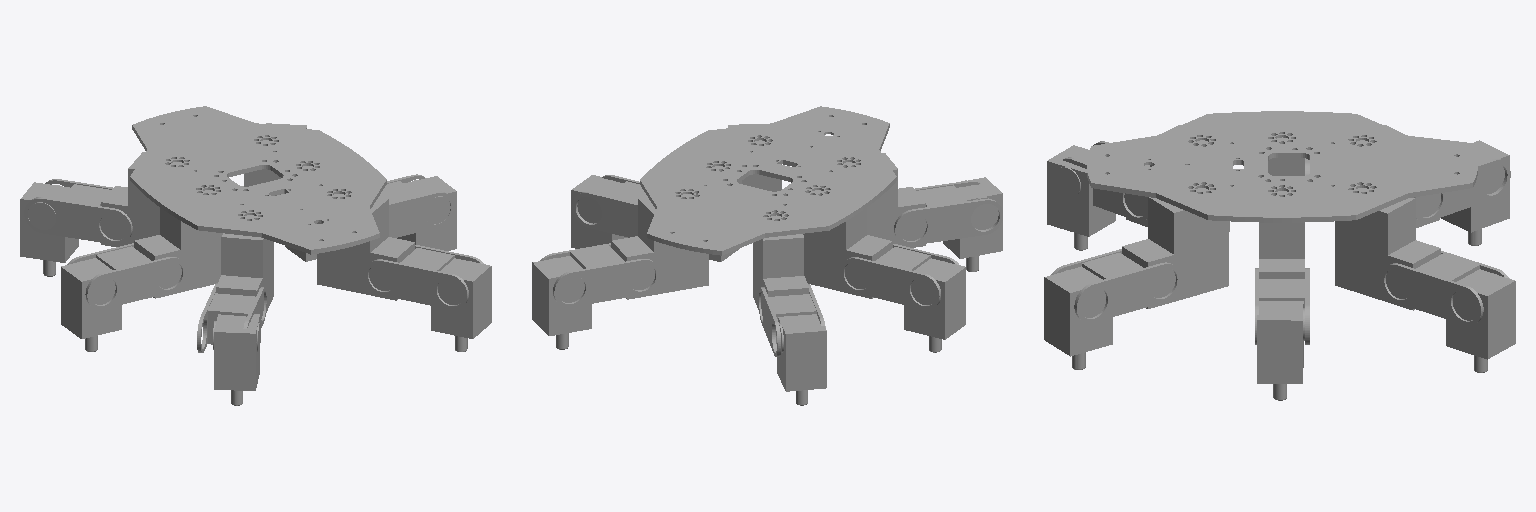
robot.urdf — (Unsaved):
<?xml version="1.0" ?>
<!-- =================================================================================== -->
<!-- |    This document was autogenerated by xacro from (Unsaved).xacro                | -->
<!-- |    EDITING THIS FILE BY HAND IS NOT RECOMMENDED                                 | -->
<!-- =================================================================================== -->
<robot name="(Unsaved)">
  <material name="silver">
    <color rgba="0.700 0.700 0.700 1.000"/>
  </material>
  <link name="base_link">
    <inertial>
      <origin rpy="0 0 0" xyz="-0.19747326793103112 0.0011545818939354344 0.001999156859975229"/>
      <mass value="1.0602977360982548"/>
      <inertia ixx="0.005088" ixy="1.5e-05" ixz="0.0" iyy="0.002124" iyz="1e-06" izz="0.007209"/>
    </inertial>
    <visual>
      <origin rpy="0 0 0" xyz="0 0 0"/>
      <geometry>
        <mesh filename="base_link.stl" scale="0.001 0.001 0.001"/>
      </geometry>
      <material name="silver"/>
    </visual>
    <collision>
      <origin rpy="0 0 0" xyz="0 0 0"/>
      <geometry>
        <mesh filename="base_link.stl" scale="0.001 0.001 0.001"/>
      </geometry>
    </collision>
  </link>
  <link name="teta1_1">
    <inertial>
      <origin rpy="0 0 0" xyz="0.030534126789324406 -0.015667414362937795 -0.00029693086440870514"/>
      <mass value="0.322485513471676"/>
      <inertia ixx="7.5e-05" ixy="2e-06" ixz="0.0" iyy="7.3e-05" iyz="-0.0" izz="9.9e-05"/>
    </inertial>
    <visual>
      <origin rpy="0 0 0" xyz="0.144694 0.105026 0.0515"/>
      <geometry>
        <mesh filename="teta1_1.stl" scale="0.001 0.001 0.001"/>
      </geometry>
      <material name="silver"/>
    </visual>
    <collision>
      <origin rpy="0 0 0" xyz="0.144694 0.105026 0.0515"/>
      <geometry>
        <mesh filename="teta1_1.stl" scale="0.001 0.001 0.001"/>
      </geometry>
    </collision>
  </link>
  <link name="tibia1_1">
    <inertial>
      <origin rpy="0 0 0" xyz="0.013631914546237855 0.009229301543740576 -0.01387288396315086"/>
      <mass value="0.5005531081408956"/>
      <inertia ixx="0.000169" ixy="4e-06" ixz="0.0" iyy="0.000166" iyz="0.0" izz="0.000101"/>
    </inertial>
    <visual>
      <origin rpy="0 0 0" xyz="0.111055 0.154709 0.0515"/>
      <geometry>
        <mesh filename="tibia1_1.stl" scale="0.001 0.001 0.001"/>
      </geometry>
      <material name="silver"/>
    </visual>
    <collision>
      <origin rpy="0 0 0" xyz="0.111055 0.154709 0.0515"/>
      <geometry>
        <mesh filename="tibia1_1.stl" scale="0.001 0.001 0.001"/>
      </geometry>
    </collision>
  </link>
  <link name="teta2_1">
    <inertial>
      <origin rpy="0 0 0" xyz="0.030092369962315096 0.016499999999999838 -0.00029693086440886474"/>
      <mass value="0.322485513471676"/>
      <inertia ixx="7.1e-05" ixy="-0.0" ixz="0.0" iyy="7.6e-05" iyz="-0.0" izz="9.9e-05"/>
    </inertial>
    <visual>
      <origin rpy="0 0 0" xyz="0.105851 0.0165 0.0515"/>
      <geometry>
        <mesh filename="teta2_1.stl" scale="0.001 0.001 0.001"/>
      </geometry>
      <material name="silver"/>
    </visual>
    <collision>
      <origin rpy="0 0 0" xyz="0.105851 0.0165 0.0515"/>
      <geometry>
        <mesh filename="teta2_1.stl" scale="0.001 0.001 0.001"/>
      </geometry>
    </collision>
  </link>
  <link name="tibia2_1">
    <inertial>
      <origin rpy="0 0 0" xyz="2.0452293353345752e-07 0.01646291267745646 -0.013872883963150555"/>
      <mass value="0.5005531081408956"/>
      <inertia ixx="0.000163" ixy="0.0" ixz="-0.0" iyy="0.000172" iyz="0.0" izz="0.000101"/>
    </inertial>
    <visual>
      <origin rpy="0 0 0" xyz="0.045851 0.0165 0.0515"/>
      <geometry>
        <mesh filename="tibia2_1.stl" scale="0.001 0.001 0.001"/>
      </geometry>
      <material name="silver"/>
    </visual>
    <collision>
      <origin rpy="0 0 0" xyz="0.045851 0.0165 0.0515"/>
      <geometry>
        <mesh filename="tibia2_1.stl" scale="0.001 0.001 0.001"/>
      </geometry>
    </collision>
  </link>
  <link name="teta3_1">
    <inertial>
      <origin rpy="0 0 0" xyz="0.0049988335991379 0.03378988634228103 0.0002969308644092117"/>
      <mass value="0.322485513471676"/>
      <inertia ixx="7.4e-05" ixy="-2e-06" ixz="0.0" iyy="7.3e-05" iyz="0.0" izz="9.9e-05"/>
    </inertial>
    <visual>
      <origin rpy="0 0 0" xyz="0.115797 -0.084261 0.0515"/>
      <geometry>
        <mesh filename="teta3_1.stl" scale="0.001 0.001 0.001"/>
      </geometry>
      <material name="silver"/>
    </visual>
    <collision>
      <origin rpy="0 0 0" xyz="0.115797 -0.084261 0.0515"/>
      <geometry>
        <mesh filename="teta3_1.stl" scale="0.001 0.001 0.001"/>
      </geometry>
    </collision>
  </link>
  <link name="tibia3_1">
    <inertial>
      <origin rpy="0 0 0" xyz="-0.01309616122417527 0.009975931443530317 -0.013872883963150652"/>
      <mass value="0.5005531081408956"/>
      <inertia ixx="0.000169" ixy="-4e-06" ixz="-0.0" iyy="0.000166" iyz="0.0" izz="0.000101"/>
    </inertial>
    <visual>
      <origin rpy="0 0 0" xyz="0.079437 -0.13199 0.0515"/>
      <geometry>
        <mesh filename="tibia3_1.stl" scale="0.001 0.001 0.001"/>
      </geometry>
      <material name="silver"/>
    </visual>
    <collision>
      <origin rpy="0 0 0" xyz="0.079437 -0.13199 0.0515"/>
      <geometry>
        <mesh filename="tibia3_1.stl" scale="0.001 0.001 0.001"/>
      </geometry>
    </collision>
  </link>
  <link name="teta4_1">
    <inertial>
      <origin rpy="0 0 0" xyz="-0.031894846797939025 0.012668757983660323 -0.00029693086440856636"/>
      <mass value="0.322485513471676"/>
      <inertia ixx="7.4e-05" ixy="3e-06" ixz="-0.0" iyy="7.3e-05" iyz="0.0" izz="9.9e-05"/>
    </inertial>
    <visual>
      <origin rpy="0 0 0" xyz="0.254528 -0.103617 0.0515"/>
      <geometry>
        <mesh filename="teta4_1.stl" scale="0.001 0.001 0.001"/>
      </geometry>
      <material name="silver"/>
    </visual>
    <collision>
      <origin rpy="0 0 0" xyz="0.254528 -0.103617 0.0515"/>
      <geometry>
        <mesh filename="teta4_1.stl" scale="0.001 0.001 0.001"/>
      </geometry>
    </collision>
  </link>
  <link name="tibia4_1">
    <inertial>
      <origin rpy="0 0 0" xyz="-0.01268524175515362 -0.010494219075531164 -0.013872883963149903"/>
      <mass value="0.5005531081408956"/>
      <inertia ixx="0.000168" ixy="4e-06" ixz="-0.0" iyy="0.000167" iyz="-0.0" izz="0.000101"/>
    </inertial>
    <visual>
      <origin rpy="0 0 0" xyz="0.292773 -0.149848 0.0515"/>
      <geometry>
        <mesh filename="tibia4_1.stl" scale="0.001 0.001 0.001"/>
      </geometry>
      <material name="silver"/>
    </visual>
    <collision>
      <origin rpy="0 0 0" xyz="0.292773 -0.149848 0.0515"/>
      <geometry>
        <mesh filename="tibia4_1.stl" scale="0.001 0.001 0.001"/>
      </geometry>
    </collision>
  </link>
  <link name="teta5_1">
    <inertial>
      <origin rpy="0 0 0" xyz="-0.03009196091642463 -0.016500000000000042 -0.00029693086440888555"/>
      <mass value="0.322485513471676"/>
      <inertia ixx="7.1e-05" ixy="-0.0" ixz="-0.0" iyy="7.6e-05" iyz="-0.0" izz="9.9e-05"/>
    </inertial>
    <visual>
      <origin rpy="0 0 0" xyz="0.288851 -0.0165 0.0515"/>
      <geometry>
        <mesh filename="teta5_1.stl" scale="0.001 0.001 0.001"/>
      </geometry>
      <material name="silver"/>
    </visual>
    <collision>
      <origin rpy="0 0 0" xyz="0.288851 -0.0165 0.0515"/>
      <geometry>
        <mesh filename="teta5_1.stl" scale="0.001 0.001 0.001"/>
      </geometry>
    </collision>
  </link>
  <link name="tibia5_1">
    <inertial>
      <origin rpy="0 0 0" xyz="2.0452295651507413e-07 -0.01646291267745669 -0.013872883963150527"/>
      <mass value="0.5005531081408956"/>
      <inertia ixx="0.000163" ixy="0.0" ixz="0.0" iyy="0.000172" iyz="-0.0" izz="0.000101"/>
    </inertial>
    <visual>
      <origin rpy="0 0 0" xyz="0.348851 -0.0165 0.0515"/>
      <geometry>
        <mesh filename="tibia5_1.stl" scale="0.001 0.001 0.001"/>
      </geometry>
      <material name="silver"/>
    </visual>
    <collision>
      <origin rpy="0 0 0" xyz="0.348851 -0.0165 0.0515"/>
      <geometry>
        <mesh filename="tibia5_1.stl" scale="0.001 0.001 0.001"/>
      </geometry>
    </collision>
  </link>
  <link name="teta6_1">
    <inertial>
      <origin rpy="0 0 0" xyz="-0.004160848120962735 -0.034065716062035664 -0.00029693086440885086"/>
      <mass value="0.322485513471676"/>
      <inertia ixx="7.5e-05" ixy="-2e-06" ixz="-0.0" iyy="7.3e-05" iyz="-0.0" izz="9.9e-05"/>
    </inertial>
    <visual>
      <origin rpy="0 0 0" xyz="0.278135 0.085404 0.0515"/>
      <geometry>
        <mesh filename="teta6_1.stl" scale="0.001 0.001 0.001"/>
      </geometry>
      <material name="silver"/>
    </visual>
    <collision>
      <origin rpy="0 0 0" xyz="0.278135 0.085404 0.0515"/>
      <geometry>
        <mesh filename="teta6_1.stl" scale="0.001 0.001 0.001"/>
      </geometry>
    </collision>
  </link>
  <link name="tibia6_1">
    <inertial>
      <origin rpy="0 0 0" xyz="0.013369579866801706 -0.009606733852596305 -0.013872883963150888"/>
      <mass value="0.5005531081408956"/>
      <inertia ixx="0.000169" ixy="-4e-06" ixz="0.0" iyy="0.000166" iyz="-0.0" izz="0.000101"/>
    </inertial>
    <visual>
      <origin rpy="0 0 0" xyz="0.313148 0.134129 0.0515"/>
      <geometry>
        <mesh filename="tibia6_1.stl" scale="0.001 0.001 0.001"/>
      </geometry>
      <material name="silver"/>
    </visual>
    <collision>
      <origin rpy="0 0 0" xyz="0.313148 0.134129 0.0515"/>
      <geometry>
        <mesh filename="tibia6_1.stl" scale="0.001 0.001 0.001"/>
      </geometry>
    </collision>
  </link>
  <link name="coxa1_1">
    <inertial>
      <origin rpy="0 0 0" xyz="0.010721348766451672 -0.015867054756867255 -0.03845464138452091"/>
      <mass value="1.0829342534788744"/>
      <inertia ixx="0.000723" ixy="0.000134" ixz="5.9e-05" iyy="0.000615" iyz="-8.7e-05" izz="0.000489"/>
    </inertial>
    <visual>
      <origin rpy="0 0 0" xyz="0.1571 0.05727 -0.0"/>
      <geometry>
        <mesh filename="coxa1_1.stl" scale="0.001 0.001 0.001"/>
      </geometry>
      <material name="silver"/>
    </visual>
    <collision>
      <origin rpy="0 0 0" xyz="0.1571 0.05727 -0.0"/>
      <geometry>
        <mesh filename="coxa1_1.stl" scale="0.001 0.001 0.001"/>
      </geometry>
    </collision>
  </link>
  <link name="coxa2_1">
    <inertial>
      <origin rpy="0 0 0" xyz="0.019149731596684927 -1.7142476112559367e-05 -0.03845464138452086"/>
      <mass value="1.0829342534788744"/>
      <inertia ixx="0.000525" ixy="1e-06" ixz="0.000105" iyy="0.000813" iyz="-0.0" izz="0.000489"/>
    </inertial>
    <visual>
      <origin rpy="0 0 0" xyz="0.152351 -0.0 -0.0"/>
      <geometry>
        <mesh filename="coxa2_1.stl" scale="0.001 0.001 0.001"/>
      </geometry>
      <material name="silver"/>
    </visual>
    <collision>
      <origin rpy="0 0 0" xyz="0.152351 -0.0 -0.0"/>
      <geometry>
        <mesh filename="coxa2_1.stl" scale="0.001 0.001 0.001"/>
      </geometry>
    </collision>
  </link>
  <link name="coxa3_1">
    <inertial>
      <origin rpy="0 0 0" xyz="0.0116175998283789 0.01522303303614854 -0.03845464138452081"/>
      <mass value="1.0829342534788744"/>
      <inertia ixx="0.000707" ixy="-0.000139" ixz="6.4e-05" iyy="0.000631" iyz="8.4e-05" izz="0.000489"/>
    </inertial>
    <visual>
      <origin rpy="0 0 0" xyz="0.1571 -0.05727 -0.0"/>
      <geometry>
        <mesh filename="coxa3_1.stl" scale="0.001 0.001 0.001"/>
      </geometry>
      <material name="silver"/>
    </visual>
    <collision>
      <origin rpy="0 0 0" xyz="0.1571 -0.05727 -0.0"/>
      <geometry>
        <mesh filename="coxa3_1.stl" scale="0.001 0.001 0.001"/>
      </geometry>
    </collision>
  </link>
  <link name="coxa4_1">
    <inertial>
      <origin rpy="0 0 0" xyz="-0.012193322564369419 0.014766371448479601 -0.038454641384520705"/>
      <mass value="1.0829342534788744"/>
      <inertia ixx="0.000697" ixy="0.000142" ixz="-6.7e-05" iyy="0.000641" iyz="8.1e-05" izz="0.000489"/>
    </inertial>
    <visual>
      <origin rpy="0 0 0" xyz="0.237601 -0.05727 -0.0"/>
      <geometry>
        <mesh filename="coxa4_1.stl" scale="0.001 0.001 0.001"/>
      </geometry>
      <material name="silver"/>
    </visual>
    <collision>
      <origin rpy="0 0 0" xyz="0.237601 -0.05727 -0.0"/>
      <geometry>
        <mesh filename="coxa4_1.stl" scale="0.001 0.001 0.001"/>
      </geometry>
    </collision>
  </link>
  <link name="coxa5_1">
    <inertial>
      <origin rpy="0 0 0" xyz="-0.019149322550794573 1.7142476112579354e-05 -0.03845464138452092"/>
      <mass value="1.0829342534788744"/>
      <inertia ixx="0.000525" ixy="1e-06" ixz="-0.000105" iyy="0.000813" iyz="0.0" izz="0.000489"/>
    </inertial>
    <visual>
      <origin rpy="0 0 0" xyz="0.242351 -0.0 -0.0"/>
      <geometry>
        <mesh filename="coxa5_1.stl" scale="0.001 0.001 0.001"/>
      </geometry>
      <material name="silver"/>
    </visual>
    <collision>
      <origin rpy="0 0 0" xyz="0.242351 -0.0 -0.0"/>
      <geometry>
        <mesh filename="coxa5_1.stl" scale="0.001 0.001 0.001"/>
      </geometry>
    </collision>
  </link>
  <link name="coxa6_1">
    <inertial>
      <origin rpy="0 0 0" xyz="-0.011188622468052495 -0.015541492362827966 -0.038454641384520864"/>
      <mass value="1.0829342534788744"/>
      <inertia ixx="0.000715" ixy="-0.000137" ixz="-6.2e-05" iyy="0.000623" iyz="-8.5e-05" izz="0.000489"/>
    </inertial>
    <visual>
      <origin rpy="0 0 0" xyz="0.237601 0.05727 -0.0"/>
      <geometry>
        <mesh filename="coxa6_1.stl" scale="0.001 0.001 0.001"/>
      </geometry>
      <material name="silver"/>
    </visual>
    <collision>
      <origin rpy="0 0 0" xyz="0.237601 0.05727 -0.0"/>
      <geometry>
        <mesh filename="coxa6_1.stl" scale="0.001 0.001 0.001"/>
      </geometry>
    </collision>
  </link>
  <joint name="Revolute 1" type="revolute">
    <origin rpy="0 0 0" xyz="0.012406 -0.047756 -0.0515"/>
    <parent link="coxa1_1"/>
    <child link="teta1_1"/>
    <axis xyz="0.82806 0.560639 0.0"/>
    <limit effort="100" lower="0.0" upper="6.283185" velocity="100"/>
  </joint>
  <joint name="Revolute 2" type="revolute">
    <origin rpy="0 0 0" xyz="0.033639 -0.049683 0.0"/>
    <parent link="teta1_1"/>
    <child link="tibia1_1"/>
    <axis xyz="0.82806 0.560639 -0.0"/>
    <limit effort="100" lower="0.0" upper="6.283185" velocity="100"/>
  </joint>
  <joint name="Revolute 5" type="revolute">
    <origin rpy="0 0 0" xyz="0.0465 -0.0165 -0.0515"/>
    <parent link="coxa2_1"/>
    <child link="teta2_1"/>
    <axis xyz="0.0 -1.0 0.0"/>
    <limit effort="100" lower="0.0" upper="6.283185" velocity="100"/>
  </joint>
  <joint name="Revolute 6" type="revolute">
    <origin rpy="0 0 0" xyz="0.06 0.0 0.0"/>
    <parent link="teta2_1"/>
    <child link="tibia2_1"/>
    <axis xyz="-0.0 1.0 -0.0"/>
    <limit effort="100" lower="0.0" upper="6.283185" velocity="100"/>
  </joint>
  <joint name="Revolute 7" type="revolute">
    <origin rpy="0 0 0" xyz="0.041303 0.026991 -0.0515"/>
    <parent link="coxa3_1"/>
    <child link="teta3_1"/>
    <axis xyz="0.795473 -0.605988 0.0"/>
    <limit effort="100" lower="0.0" upper="6.283185" velocity="100"/>
  </joint>
  <joint name="Revolute 8" type="revolute">
    <origin rpy="0 0 0" xyz="0.03636 0.047729 0.0"/>
    <parent link="teta3_1"/>
    <child link="tibia3_1"/>
    <axis xyz="-0.795473 0.605988 0.0"/>
    <limit effort="100" lower="0.0" upper="6.283185" velocity="100"/>
  </joint>
  <joint name="Revolute 9" type="revolute">
    <origin rpy="0 0 0" xyz="-0.016927 0.046347 -0.0515"/>
    <parent link="coxa4_1"/>
    <child link="teta4_1"/>
    <axis xyz="0.770513 0.637424 0.0"/>
    <limit effort="100" lower="0.0" upper="6.283185" velocity="100"/>
  </joint>
  <joint name="Revolute 10" type="revolute">
    <origin rpy="0 0 0" xyz="-0.038245 0.046231 0.0"/>
    <parent link="teta4_1"/>
    <child link="tibia4_1"/>
    <axis xyz="-0.770513 -0.637424 -0.0"/>
    <limit effort="100" lower="0.0" upper="6.283185" velocity="100"/>
  </joint>
  <joint name="Revolute 11" type="revolute">
    <origin rpy="0 0 0" xyz="-0.0465 0.0165 -0.0515"/>
    <parent link="coxa5_1"/>
    <child link="teta5_1"/>
    <axis xyz="-0.0 1.0 -0.0"/>
    <limit effort="100" lower="0.0" upper="6.283185" velocity="100"/>
  </joint>
  <joint name="Revolute 12" type="revolute">
    <origin rpy="0 0 0" xyz="-0.06 0.0 0.0"/>
    <parent link="teta5_1"/>
    <child link="tibia5_1"/>
    <axis xyz="0.0 -1.0 0.0"/>
    <limit effort="100" lower="0.0" upper="6.283185" velocity="100"/>
  </joint>
  <joint name="Revolute 13" type="revolute">
    <origin rpy="0 0 0" xyz="-0.040534 -0.028134 -0.0515"/>
    <parent link="coxa6_1"/>
    <child link="teta6_1"/>
    <axis xyz="-0.812084 0.583541 0.0"/>
    <limit effort="100" lower="0.0" upper="6.283185" velocity="100"/>
  </joint>
  <joint name="Revolute 14" type="revolute">
    <origin rpy="0 0 0" xyz="-0.035013 -0.048725 0.0"/>
    <parent link="teta6_1"/>
    <child link="tibia6_1"/>
    <axis xyz="0.812084 -0.583541 -0.0"/>
    <limit effort="100" lower="0.0" upper="6.283185" velocity="100"/>
  </joint>
  <joint name="Revolute 15" type="revolute">
    <origin rpy="0 0 0" xyz="-0.1571 -0.05727 0.0"/>
    <parent link="base_link"/>
    <child link="coxa1_1"/>
    <axis xyz="0.0 0.0 1.0"/>
    <limit effort="100" lower="0.0" upper="6.283185" velocity="100"/>
  </joint>
  <joint name="Revolute 16" type="revolute">
    <origin rpy="0 0 0" xyz="-0.152351 0.0 0.0"/>
    <parent link="base_link"/>
    <child link="coxa2_1"/>
    <axis xyz="0.0 0.0 -1.0"/>
    <limit effort="100" lower="0.0" upper="6.283185" velocity="100"/>
  </joint>
  <joint name="Revolute 17" type="revolute">
    <origin rpy="0 0 0" xyz="-0.1571 0.05727 0.0"/>
    <parent link="base_link"/>
    <child link="coxa3_1"/>
    <axis xyz="0.0 0.0 -1.0"/>
    <limit effort="100" lower="0.0" upper="6.283185" velocity="100"/>
  </joint>
  <joint name="Revolute 18" type="revolute">
    <origin rpy="0 0 0" xyz="-0.237601 0.05727 0.0"/>
    <parent link="base_link"/>
    <child link="coxa4_1"/>
    <axis xyz="0.0 0.0 -1.0"/>
    <limit effort="100" lower="0.0" upper="6.283185" velocity="100"/>
  </joint>
  <joint name="Revolute 19" type="revolute">
    <origin rpy="0 0 0" xyz="-0.242351 0.0 0.0"/>
    <parent link="base_link"/>
    <child link="coxa5_1"/>
    <axis xyz="0.0 0.0 -1.0"/>
    <limit effort="100" lower="0.0" upper="6.283185" velocity="100"/>
  </joint>
  <joint name="Revolute 20" type="continuous">
    <origin rpy="0 0 0" xyz="-0.237601 -0.05727 0.0"/>
    <parent link="base_link"/>
    <child link="coxa6_1"/>
    <axis xyz="0.0 0.0 -1.0"/>
  </joint>
</robot>

--- Render facts (derived) ---
3 views of the same robot in one strip: view 1: azimuth 30°, elevation 25°; view 2: azimuth 150°, elevation 25°; view 3: azimuth 270°, elevation 25° (orthographic).
Model (Unsaved) with 19 links and 18 joints (17 revolute, 1 continuous), rooted at base_link, posed all joints at 0.
Links seen in each view (by area): view 1: base_link, coxa5_1, coxa1_1, tibia5_1, tibia1_1, tibia6_1, teta1_1, teta4_1, teta5_1, coxa6_1, tibia4_1, coxa4_1 (+3 smaller); view 2: base_link, coxa5_1, coxa3_1, tibia5_1, tibia3_1, tibia4_1, teta3_1, teta6_1, teta5_1, coxa4_1, coxa6_1, tibia6_1 (+3 smaller); view 3: base_link, coxa1_1, coxa3_1, tibia3_1, tibia1_1, tibia2_1, tibia6_1, teta1_1, teta3_1, tibia4_1, coxa2_1, teta2_1 (+5 smaller).
Boxes of the visible links, left/top/right/bottom form: base_link: left=130, top=106, right=386, bottom=254; coxa5_1: left=134, top=190, right=222, bottom=298; coxa1_1: left=317, top=194, right=414, bottom=300; tibia5_1: left=61, top=258, right=121, bottom=351; tibia1_1: left=431, top=258, right=491, bottom=351; tibia6_1: left=213, top=314, right=260, bottom=405; teta1_1: left=364, top=245, right=483, bottom=309; teta4_1: left=24, top=179, right=132, bottom=244; teta5_1: left=67, top=243, right=186, bottom=309; coxa6_1: left=216, top=215, right=273, bottom=318; tibia4_1: left=20, top=182, right=78, bottom=276; coxa4_1: left=100, top=152, right=182, bottom=246; base_link: left=640, top=106, right=896, bottom=255; coxa5_1: left=803, top=190, right=892, bottom=298; coxa3_1: left=611, top=194, right=708, bottom=299; tibia5_1: left=904, top=258, right=965, bottom=352; tibia3_1: left=532, top=256, right=591, bottom=349; tibia4_1: left=777, top=314, right=826, bottom=405; teta3_1: left=540, top=243, right=659, bottom=307; teta6_1: left=894, top=180, right=1002, bottom=245; teta5_1: left=840, top=244, right=958, bottom=309; coxa4_1: left=753, top=215, right=808, bottom=319; coxa6_1: left=844, top=153, right=926, bottom=247; tibia6_1: left=943, top=177, right=1002, bottom=271; base_link: left=1087, top=111, right=1477, bottom=222; coxa1_1: left=1122, top=188, right=1228, bottom=308; coxa3_1: left=1335, top=188, right=1440, bottom=310; tibia3_1: left=1446, top=269, right=1515, bottom=372; tibia1_1: left=1044, top=266, right=1112, bottom=369; tibia2_1: left=1257, top=301, right=1304, bottom=400; tibia6_1: left=1047, top=145, right=1115, bottom=250; teta1_1: left=1051, top=249, right=1180, bottom=322; teta3_1: left=1381, top=251, right=1509, bottom=325; tibia4_1: left=1441, top=140, right=1509, bottom=245; coxa2_1: left=1259, top=191, right=1304, bottom=278; teta2_1: left=1255, top=268, right=1309, bottom=344.
Bounding box of the posed robot: 0.3402 × 0.3367 × 0.1138 m (x, y, z).
Meshes: 19 distinct files referenced, 19 mesh visuals loaded (19 binary STL).
